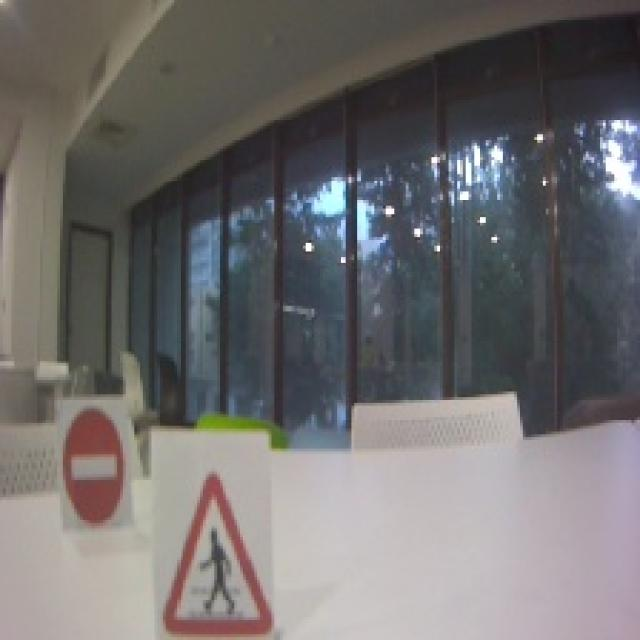DoNotEnterSign: (62, 406, 126, 525)
